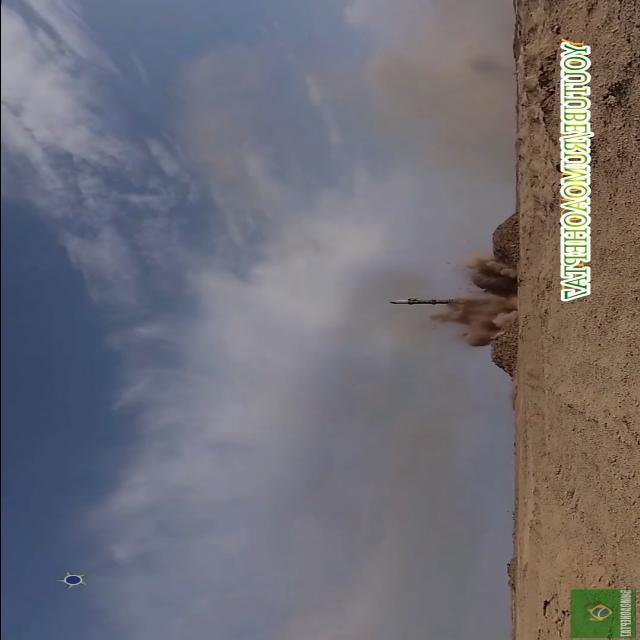missile: (379, 297, 458, 308)
